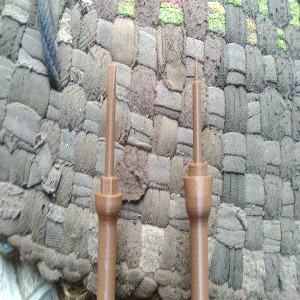obeng: (94, 63, 123, 300)
solder: (182, 54, 214, 300)
